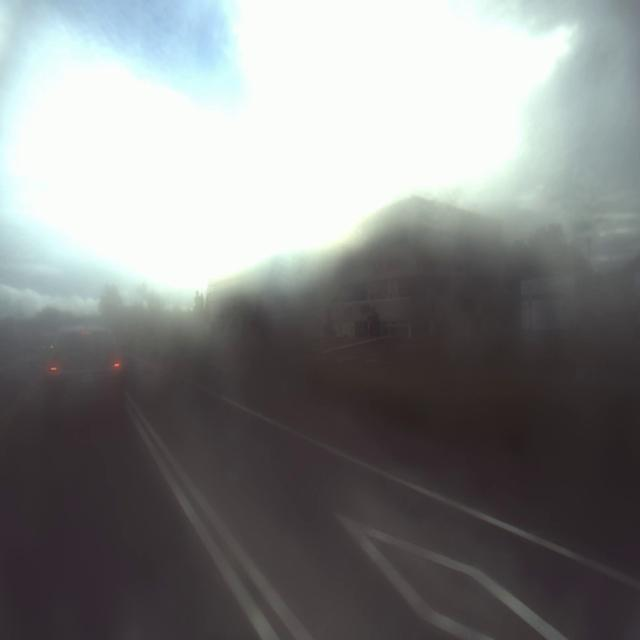car: (41, 311, 126, 422)
